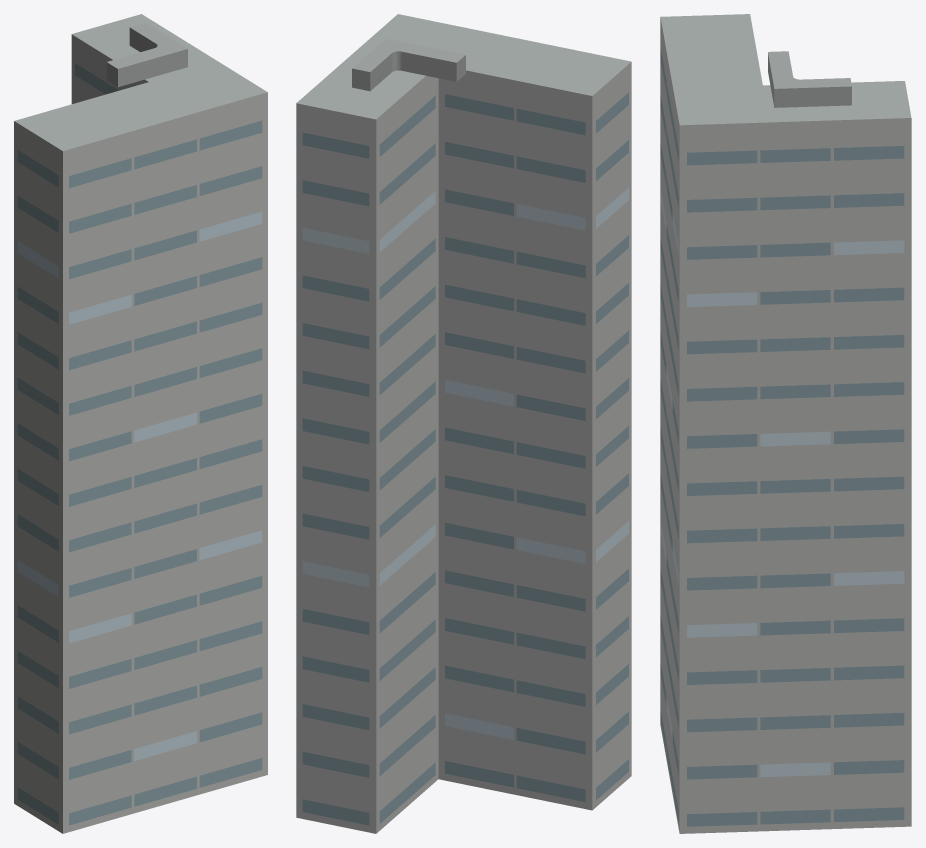
File: fallback-godeok-raemian-hillstate-307.glb
The picture shows the model from 3 angles, left to right: view 1: azimuth 30°, elevation 25°; view 2: azimuth 150°, elevation 25°; view 3: azimuth 270°, elevation 25°; orthographic projection. The views are drawn at different scales.
Parts seen in each view (by area): view 1: fallback-godeok-raemian-hillstate-307; view 2: fallback-godeok-raemian-hillstate-307; view 3: fallback-godeok-raemian-hillstate-307.
Part boxes in pixels (<box>): fallback-godeok-raemian-hillstate-307: <box>14,14,267,833</box>; fallback-godeok-raemian-hillstate-307: <box>296,14,631,833</box>; fallback-godeok-raemian-hillstate-307: <box>660,14,911,833</box>.
Size of the model in its own units: 30.18 by 92 by 28.76.
